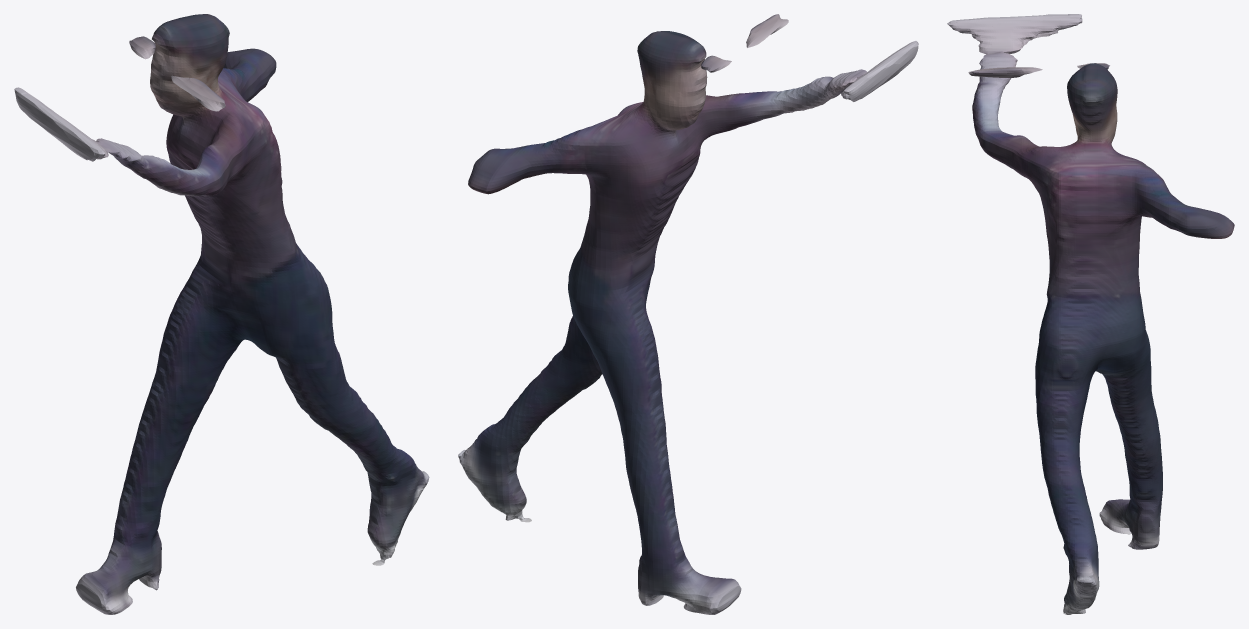
File: 0094_tex.glb
3 views of the same model, side by side, from view 1: azimuth 30°, elevation 25°; view 2: azimuth 150°, elevation 25°; view 3: azimuth 270°, elevation 25° (orthographic). The views are drawn at different scales.
Visible parts, largest first — view 1: 0094_tex.obj; view 2: 0094_tex.obj; view 3: 0094_tex.obj.
Part boxes in pixels (x1=…): 0094_tex.obj: x1=14, y1=14, x2=429, y2=614; 0094_tex.obj: x1=458, y1=14, x2=918, y2=614; 0094_tex.obj: x1=947, y1=14, x2=1234, y2=614.
Size of the model in its own units: 0.674 by 0.9008 by 0.4891.
